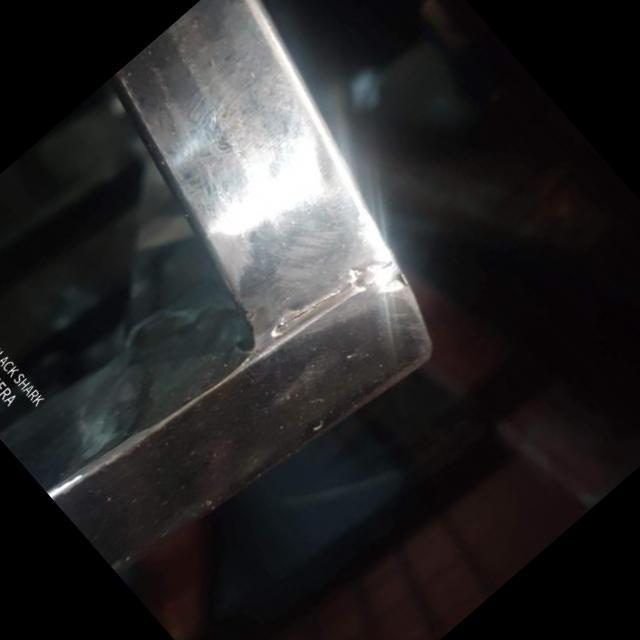defect: (271, 283, 354, 333)
